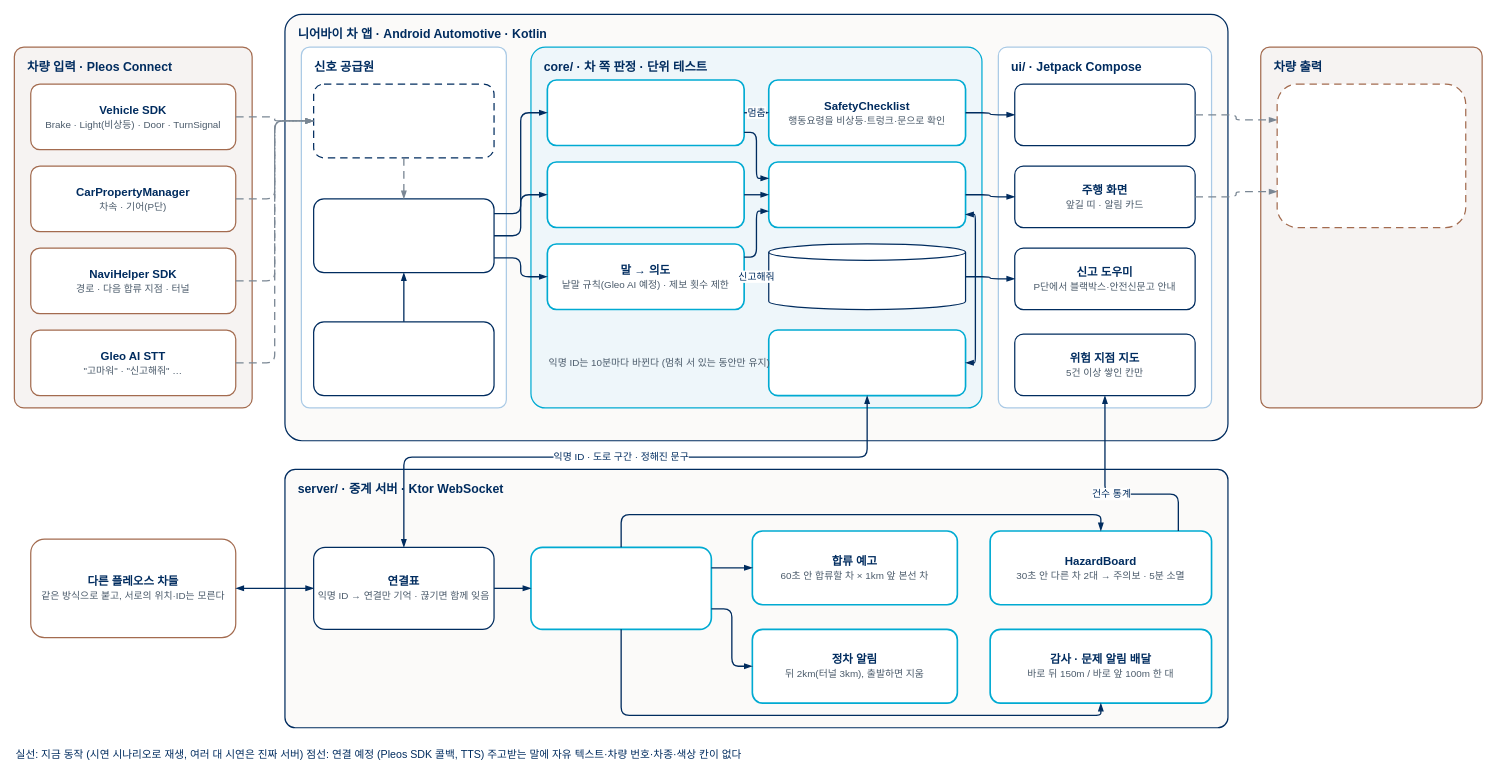
The diagram is 1497 pixels wide and 778 high, and some of its shapes have lost their labels. The shapes that lost their labels are listed below. From the top down, each one's centre as x and y in pixels, then its label:
At pixel 403 120: "PleosSignalSource SDK 콜백 → VehicleSample (연결 예정)".
At pixel 645 112: "급제동 · 정차 감지 3.5m/s² · 멈춰 10초".
At pixel 1104 114: "행동요령 확인판 끝낸 단계 체크, 남은 것만 안내".
At pixel 1371 155: "TTS 알림은 한 번 · 터널은 1km 앞 한 번 더".
At pixel 645 194: "비상등 감사 감지 0.8~4초 · 달리는 중 · 깜빡이 뒤".
At pixel 867 194: "NearbyClient 보낼 것 · 받은 말 → 알림 · 음성".
At pixel 403 235: "VehicleSample 0.5~2초마다 신호 묶음".
At pixel 867 276: "신고 메모 시각·위치, 차 안에만".
At pixel 403 358: "시연 시나리오 재생 차 4대 · 합류 / 터널".
At pixel 867 362: "HubLink 앱 안 허브(한 대) · WebSocket(여러 대)".
At pixel 621 588: "NearbyHub core 코드 그대로 · 차 위치는 10초만".
